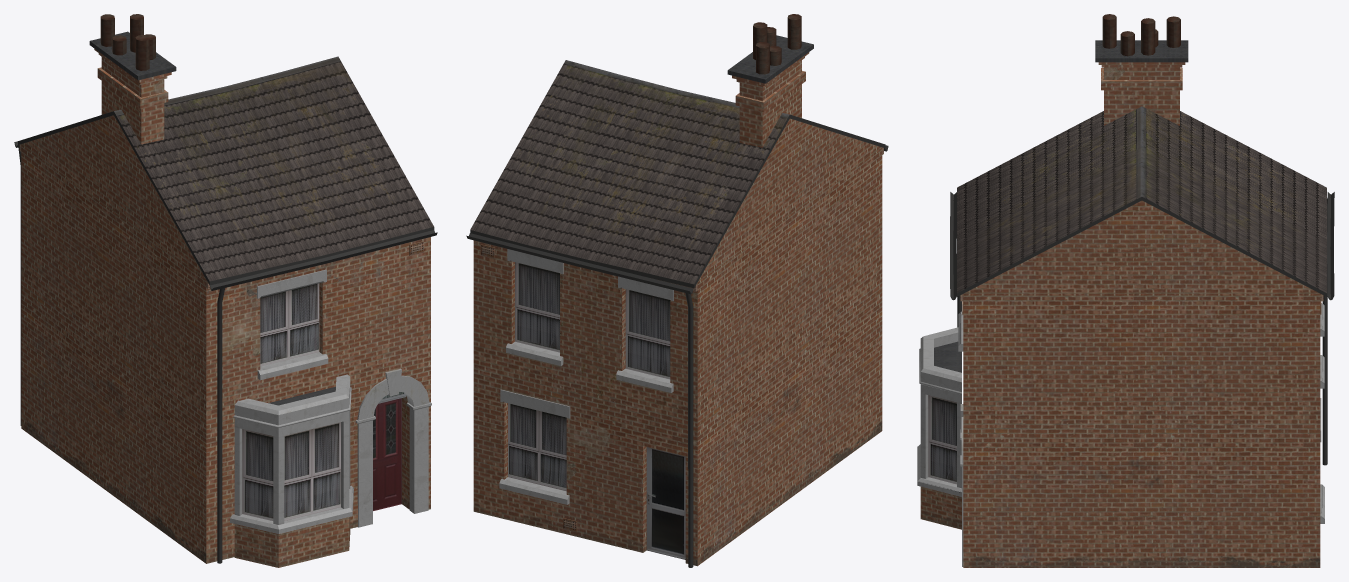
The model's file is ukterracedvictorian8bm.FBX.
3 renders of one model, left to right at view 1: azimuth 30°, elevation 25°; view 2: azimuth 150°, elevation 25°; view 3: azimuth 270°, elevation 25°, orthographic. The views are drawn at different scales.
Parts seen in each view (by area): view 1: Object003; view 2: Object003; view 3: Object003.
Boxes of the visible parts, x1,y1,x2,y2 form: Object003: (14, 14, 437, 567); Object003: (466, 14, 888, 567); Object003: (917, 14, 1334, 567).
Size of the model in its own units: 560 by 1122 by 935.
